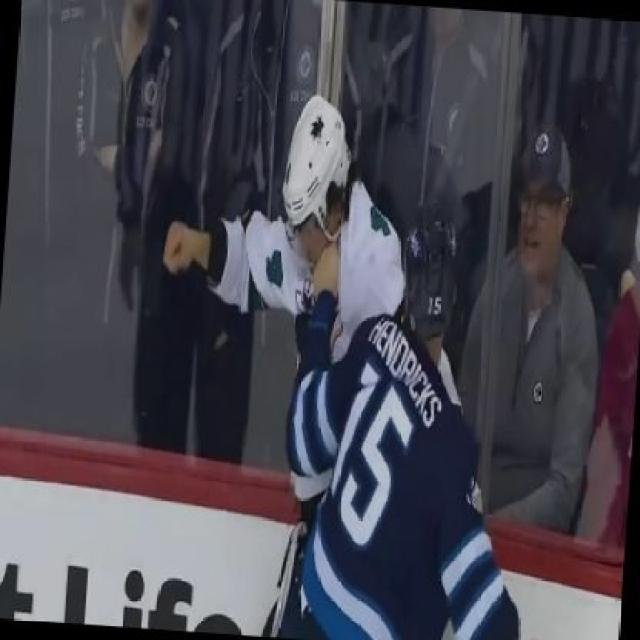fight: (153, 91, 551, 638)
